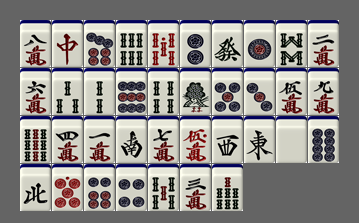0m: (180, 116, 211, 163)
0p: (52, 164, 83, 211)
0s: (148, 20, 179, 67)
1m: (84, 116, 115, 163)
1p: (244, 20, 275, 67)
1s: (180, 68, 211, 115)
1z: (244, 116, 275, 163)
2m: (308, 20, 339, 67)
2p: (180, 20, 211, 67)
2s: (84, 68, 115, 115)
2z: (116, 116, 147, 163)
3m: (180, 164, 211, 211)
3p: (244, 68, 275, 115)
3s: (52, 68, 83, 115)
3z: (212, 116, 243, 163)
4m: (52, 116, 83, 163)
4p: (116, 164, 147, 211)
4s: (148, 68, 179, 115)
4z: (20, 164, 51, 211)
5m: (276, 68, 307, 115)
5p: (212, 68, 243, 115)
5s: (148, 164, 179, 211)
5z: (276, 116, 307, 163)
6m: (20, 68, 51, 115)
6p: (84, 164, 115, 211)
6s: (116, 20, 147, 67)
6z: (212, 20, 243, 67)
7m: (148, 116, 179, 163)
7p: (84, 20, 115, 67)
7s: (212, 164, 243, 211)
7z: (52, 20, 83, 67)
8m: (20, 20, 51, 67)
8p: (308, 116, 339, 163)
8s: (276, 20, 307, 67)
9m: (308, 68, 339, 115)
9p: (116, 68, 147, 115)
9s: (20, 116, 51, 163)
